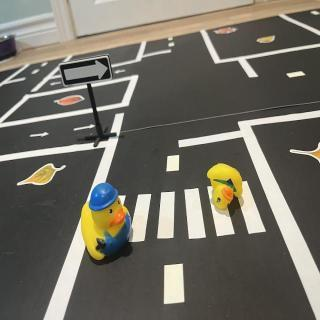duck_regular: (209, 163, 245, 214)
duck_specialty: (80, 183, 133, 261)
road_crosswalk: (119, 181, 271, 247)
road_oneway: (115, 65, 131, 79), (74, 124, 98, 133), (27, 133, 53, 141), (50, 81, 65, 89)
sign_oneway_right: (61, 53, 116, 89)
